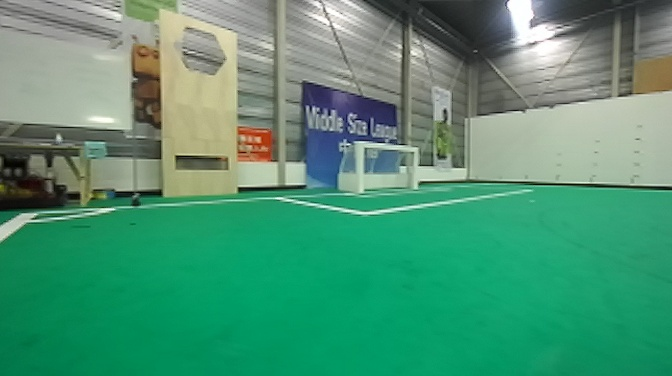goalpost: (403, 142, 420, 196), (353, 140, 369, 196)
